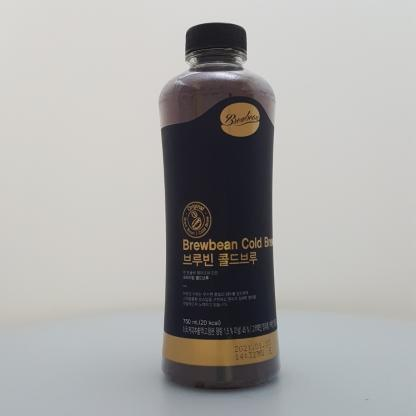-------------: (158, 22, 281, 390)
